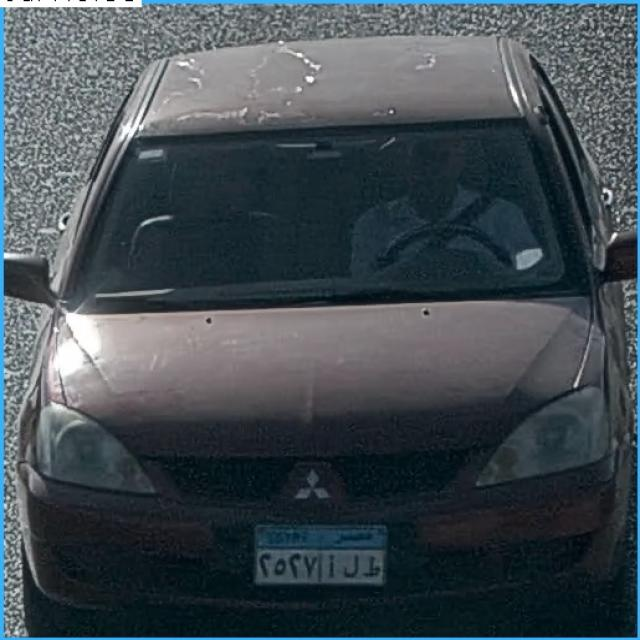windshield: (65, 136, 585, 281)
